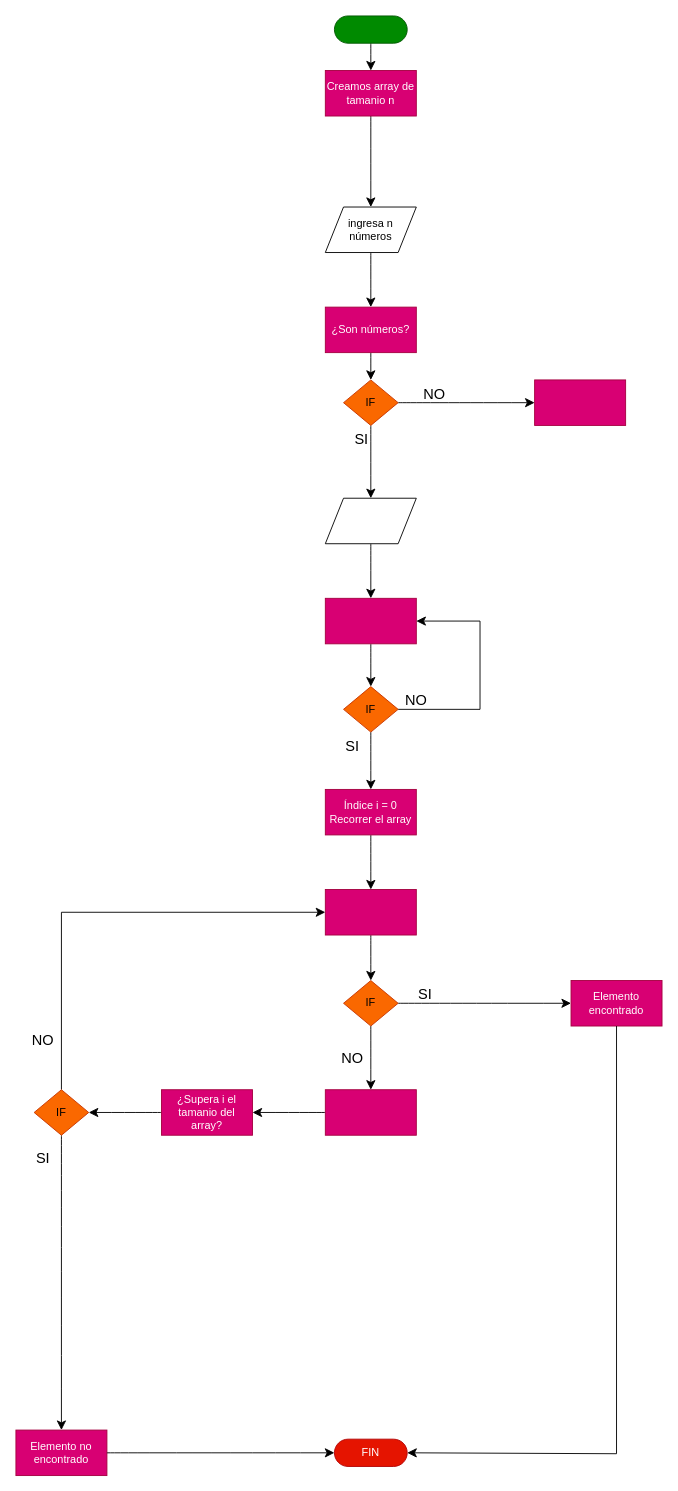
This 678x1491 diagram has some shape labels left out. The centre of each missing label's shape, as x and y in pixels:
Incrementar i++: point 370,1112
ingresa número a buscar: point 370,520
INICIO: point 370,29
Mostrar error: point 580,402
¿Es array[i] igual al número buscado?: point 370,912
¿Es un número?: point 370,620
